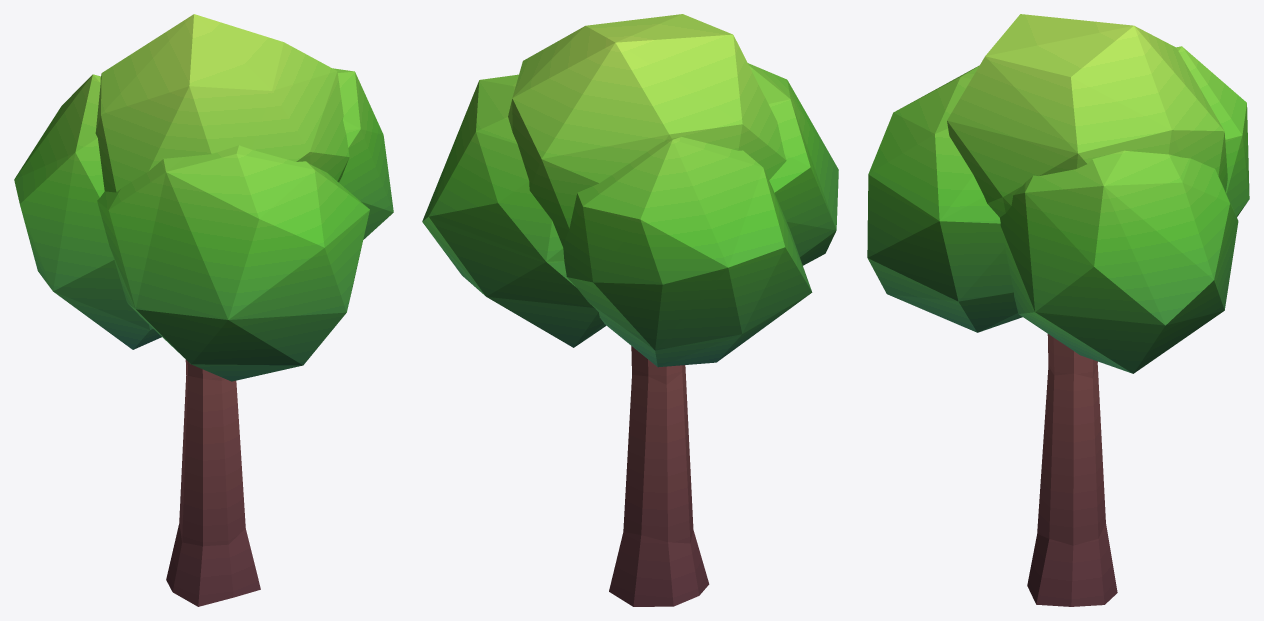
The model's file is Green_I.glb.
3 renders of one model, left to right at view 1: azimuth 30°, elevation 25°; view 2: azimuth 150°, elevation 25°; view 3: azimuth 270°, elevation 25°, orthographic. The views are drawn at different scales.
Visible parts, largest first — view 1: Green_Leaves3_N, Green_Leaves1_N, Green_Leaves4_N, Green_Trunk_N, Green_Leaves2_N; view 2: Green_Leaves4_N, Green_Leaves1_N, Green_Leaves2_N, Green_Trunk_N, Green_Leaves3_N; view 3: Green_Leaves2_N, Green_Leaves1_N, Green_Leaves3_N, Green_Trunk_N, Green_Leaves4_N.
Part boxes in pixels (box(x1,y1,x2,y2)): Green_Leaves3_N: box(97, 145, 369, 381); Green_Leaves1_N: box(95, 14, 349, 192); Green_Leaves4_N: box(14, 74, 161, 349); Green_Trunk_N: box(166, 359, 260, 606); Green_Leaves2_N: box(333, 68, 393, 239); Green_Leaves4_N: box(563, 137, 812, 367); Green_Leaves1_N: box(508, 14, 786, 247); Green_Leaves2_N: box(422, 74, 606, 347); Green_Trunk_N: box(609, 346, 709, 606); Green_Leaves3_N: box(748, 63, 838, 265); Green_Leaves2_N: box(1000, 150, 1238, 373); Green_Leaves1_N: box(947, 14, 1227, 217); Green_Leaves3_N: box(867, 65, 1022, 332); Green_Trunk_N: box(1027, 334, 1117, 606); Green_Leaves4_N: box(1176, 46, 1249, 216).
Bounding box in the file's own units: 2.25 × 3.46 × 2.1.
Materials: 1 (1 with a texture image).
